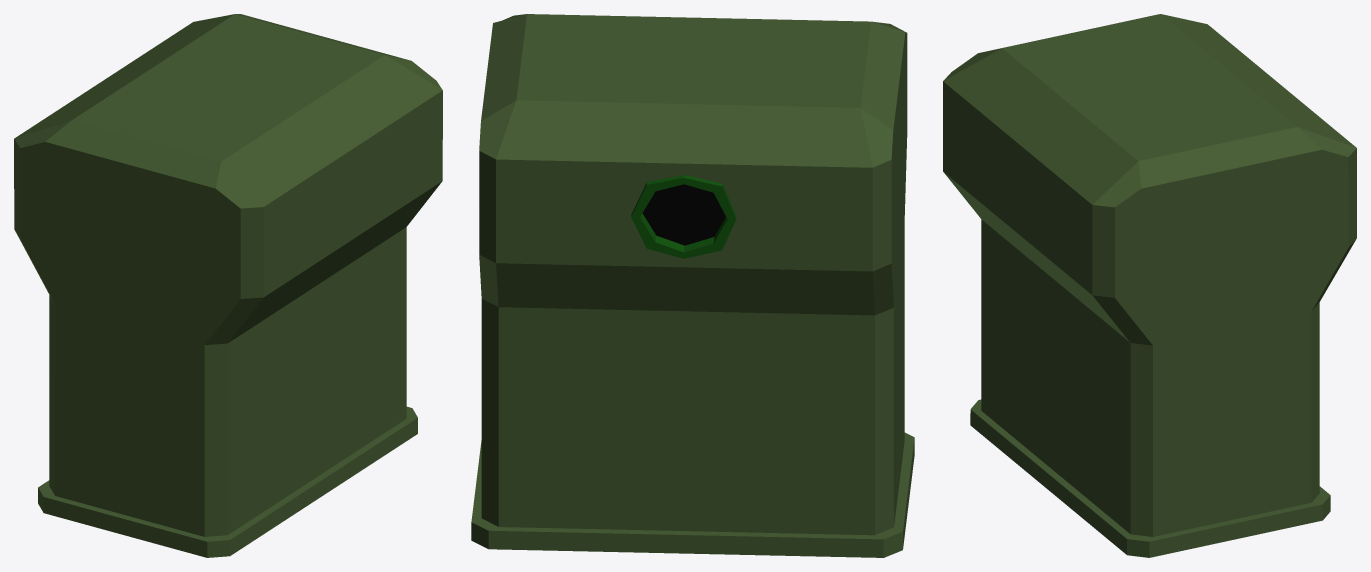
File: Recycle Bin Green.fbx
The picture shows the model from 3 angles, left to right: view 1: azimuth 30°, elevation 25°; view 2: azimuth 150°, elevation 25°; view 3: azimuth 270°, elevation 25°; orthographic projection. The views are drawn at different scales.
Parts seen in each view (by area): view 1: Recycle Bin Green; view 2: Recycle Bin Green; view 3: Recycle Bin Green.
Part boxes in pixels (x1,y1,x2,y2): Recycle Bin Green: (14,14,442,557); Recycle Bin Green: (471,14,914,557); Recycle Bin Green: (943,14,1356,557).
Size of the model in its own units: 282 by 266 by 270.
